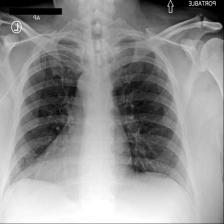normal: (6, 31, 193, 197)
